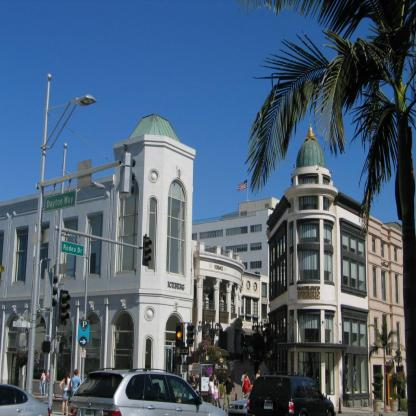Car: (73, 371, 228, 416), (248, 373, 337, 416), (1, 385, 51, 416), (230, 390, 253, 415)
